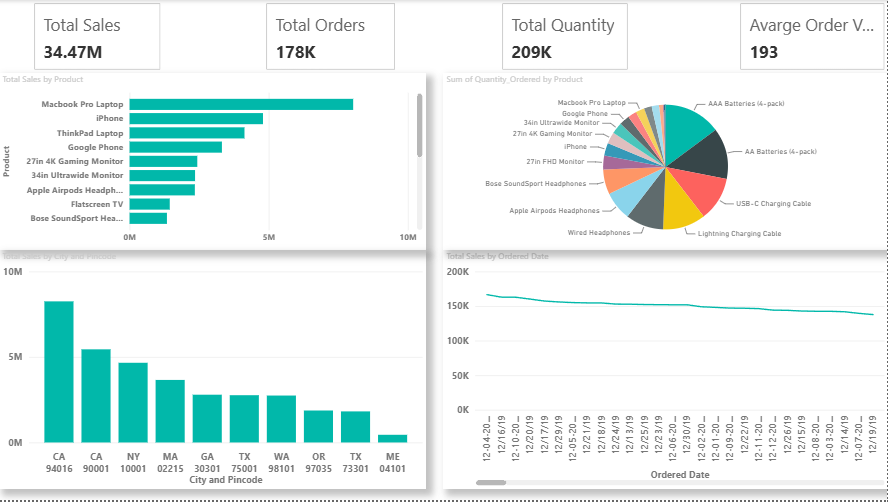

The dashboard page shown, as its layout file describes it:
{"tool":"powerbi","page":{"name":"Page 1","canvas":[1280,720],"ordinal":0},"visuals":[{"type":"cardVisual","fields":{"Data":["sales.Total Sales"]},"box":[46.1,0,191.5,105.1],"z":1000},{"type":"cardVisual","fields":{"Data":["sales.Total Quantity"]},"box":[720,0,190.1,105.1],"z":2000},{"type":"cardVisual","fields":{"Data":["sales.Avarge Order Value"]},"box":[1062.7,0,217.4,105.1],"z":3000},{"type":"barChart","fields":{"Category":["sales.Product"],"Y":["sales.Total Sales"]},"box":[0,105.1,614.9,254.9],"z":4000},{"type":"clusteredColumnChart","fields":{"Category":["sales.City and Pincode"],"Y":["sales.Total Sales"]},"box":[0,360,614.9,344.2],"z":5000},{"type":"lineChart","fields":{"Category":["sales.Ordered Date"],"Y":["sales.Total Sales"]},"box":[639.4,360,640.8,344.2],"z":6000},{"type":"pieChart","fields":{"Category":["sales.Product"],"Y":["Sum(sales.Quantity_Ordered)"]},"box":[639.4,105.1,640.8,254.9],"z":7000},{"type":"cardVisual","fields":{"Data":["sales.Total Orders"]},"box":[380.2,0,195.8,105.1],"z":7500}]}

Visuals, with their boxes in screenshot pixels (x1, y1, x2, y2), scaled from the page's 1280x720 canvas onto the 888x502 screenshot:
cardVisual - sales.Total Sales: l=32, t=0, r=165, b=73
cardVisual - sales.Total Quantity: l=500, t=0, r=631, b=73
cardVisual - sales.Avarge Order Value: l=737, t=0, r=887, b=73
barChart - sales.Product x sales.Total Sales: l=0, t=73, r=427, b=251
clusteredColumnChart - sales.City and Pincode x sales.Total Sales: l=0, t=251, r=427, b=491
lineChart - sales.Ordered Date x sales.Total Sales: l=444, t=251, r=887, b=491
pieChart - sales.Product x Sum(sales.Quantity_Ordered): l=444, t=73, r=887, b=251
cardVisual - sales.Total Orders: l=264, t=0, r=400, b=73
